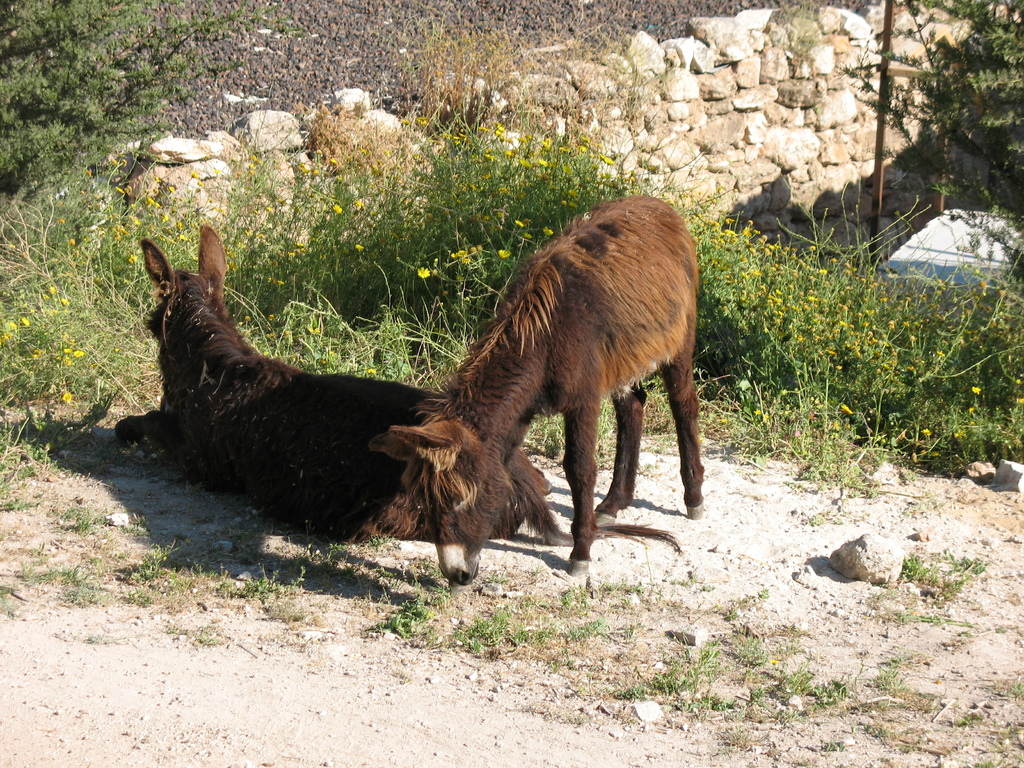Animal: (111, 224, 687, 561), (360, 189, 699, 577)
